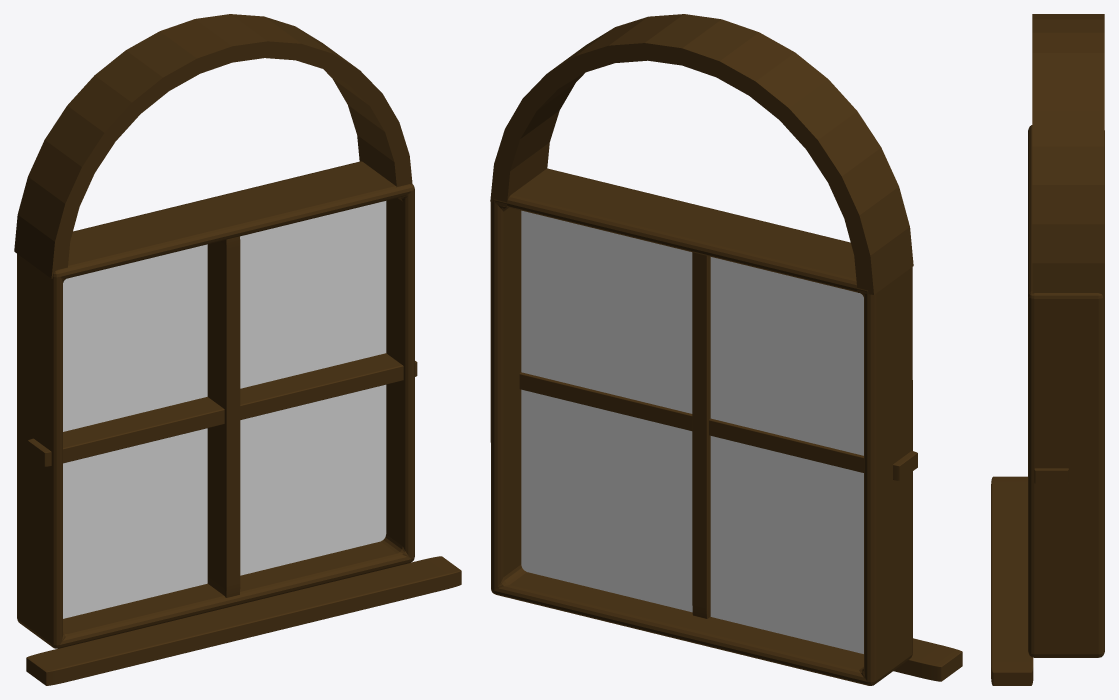
File: Window05.fbx
3 renders of one model, left to right at view 1: azimuth 30°, elevation 25°; view 2: azimuth 150°, elevation 25°; view 3: azimuth 270°, elevation 25°, orthographic. The views are drawn at different scales.
Visible parts, largest first — view 1: WindowGlow, WindowFrame04, WindowCylinder.001, WindowFrame04.001, WindowFrame01, WindowFrame01.002, WindowFrame01.003, WindowFrame01.001; view 2: WindowGlow, WindowFrame04, WindowFrame04.001, WindowCylinder.001, WindowFrame01.002, WindowFrame01.003, WindowFrame01; view 3: WindowFrame04.001, WindowFrame04, WindowCylinder.001, WindowFrame01, WindowFrame01.001, WindowFrame01.003.
Boxes of the visible parts, box(x1,y1,x2,y2) form: WindowGlow: box(63, 201, 386, 618); WindowFrame04: box(17, 161, 414, 648); WindowCylinder.001: box(14, 14, 412, 278); WindowFrame04.001: box(17, 161, 414, 648); WindowFrame01: box(26, 556, 461, 685); WindowFrame01.002: box(207, 236, 240, 597); WindowFrame01.003: box(28, 353, 417, 466); WindowFrame01.001: box(30, 573, 455, 685); WindowGlow: box(521, 210, 863, 653); WindowFrame04: box(490, 168, 912, 685); WindowFrame04.001: box(490, 169, 912, 685); WindowCylinder.001: box(490, 14, 913, 294); WindowFrame01.002: box(692, 252, 710, 618); WindowFrame01.003: box(519, 372, 917, 480); WindowFrame01: box(893, 638, 962, 681); WindowFrame04.001: box(1028, 125, 1104, 657); WindowFrame04: box(1028, 125, 1104, 657); WindowCylinder.001: box(1032, 14, 1104, 299); WindowFrame01: box(991, 476, 1033, 685); WindowFrame01.001: box(991, 476, 1033, 685); WindowFrame01.003: box(1034, 468, 1068, 483).
Bounding box in the file's own units: 64.22 × 84.89 × 15.77.
